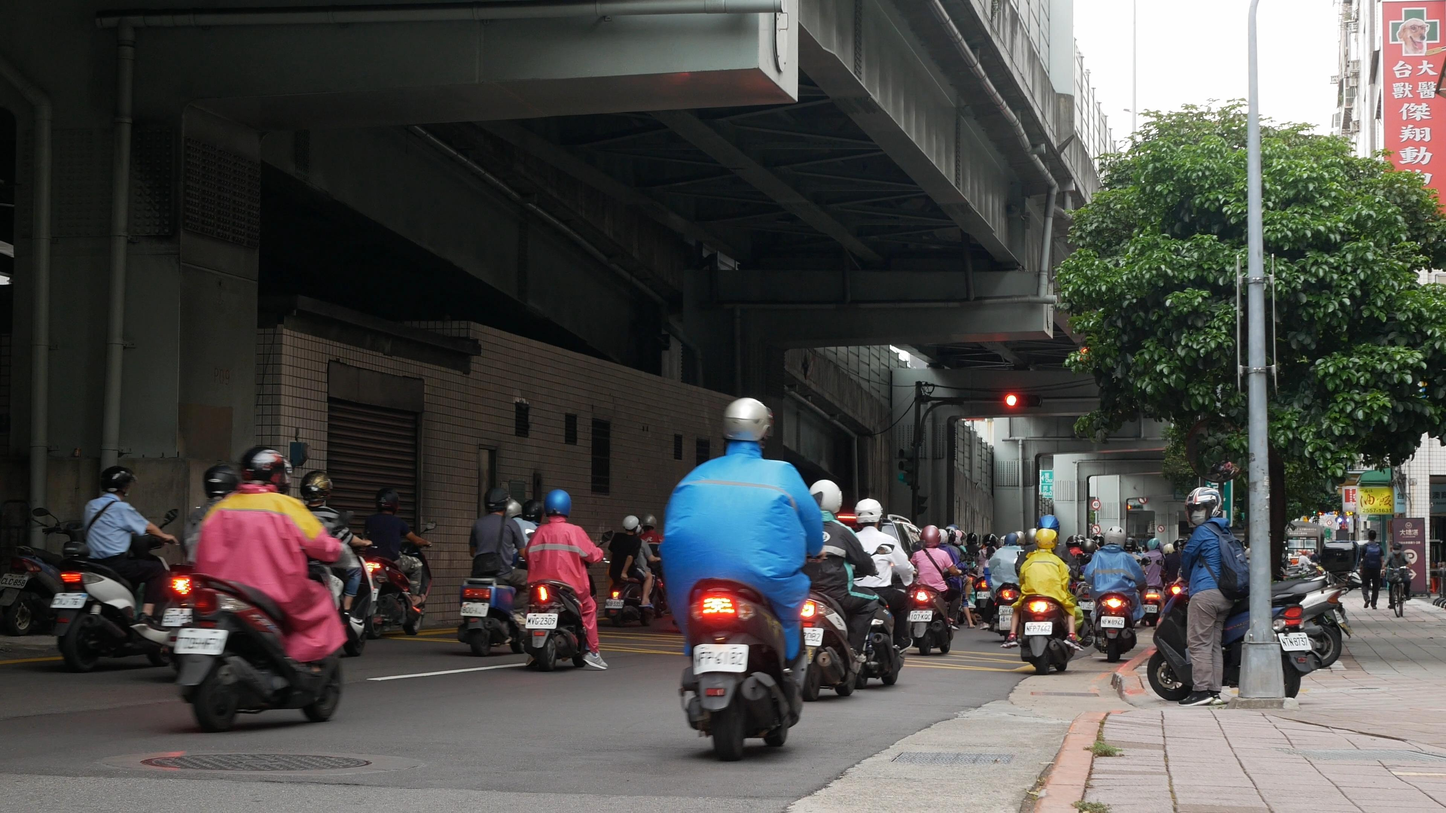bicyclist: (1380, 542, 1411, 617)
driver: (658, 398, 827, 761), (174, 444, 355, 731), (49, 465, 181, 671), (801, 479, 895, 701), (525, 488, 615, 672), (999, 514, 1092, 675), (853, 498, 926, 690), (457, 486, 525, 656), (364, 487, 437, 638), (1074, 526, 1152, 663), (906, 525, 973, 655), (604, 515, 662, 628), (979, 532, 1025, 642), (1141, 538, 1166, 627)
helmet: (722, 398, 774, 449), (240, 444, 292, 494), (1185, 487, 1222, 527), (202, 463, 240, 499), (100, 465, 138, 498), (809, 480, 842, 514), (300, 470, 333, 502), (854, 498, 883, 528), (544, 489, 571, 518), (484, 486, 511, 514), (375, 488, 400, 515), (1034, 528, 1059, 551), (521, 500, 544, 524), (1038, 514, 1060, 537), (1104, 526, 1126, 549), (920, 525, 941, 548), (622, 515, 642, 534), (504, 498, 522, 518), (1146, 538, 1164, 554), (641, 513, 657, 530), (1003, 532, 1020, 547), (1173, 539, 1188, 555), (953, 529, 967, 546), (1081, 539, 1095, 554), (983, 534, 997, 548), (1124, 538, 1137, 552), (945, 529, 956, 545), (1066, 535, 1080, 547), (938, 529, 949, 544), (966, 532, 978, 545), (1164, 543, 1174, 555)
no-helmet: (1392, 542, 1403, 555), (1367, 530, 1377, 541)
